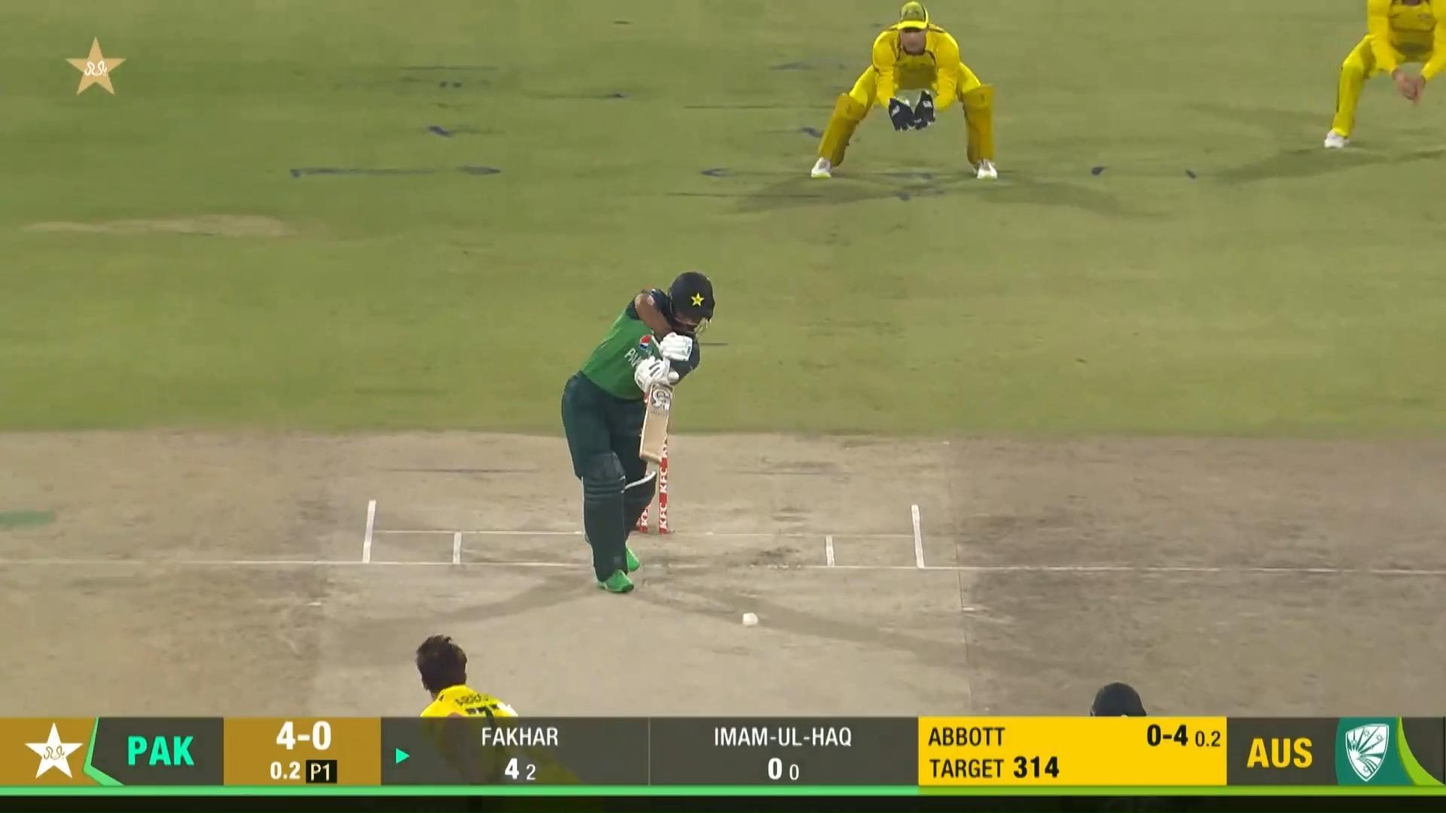BM 1: (559, 272, 717, 595)
BO: (416, 634, 521, 718)
